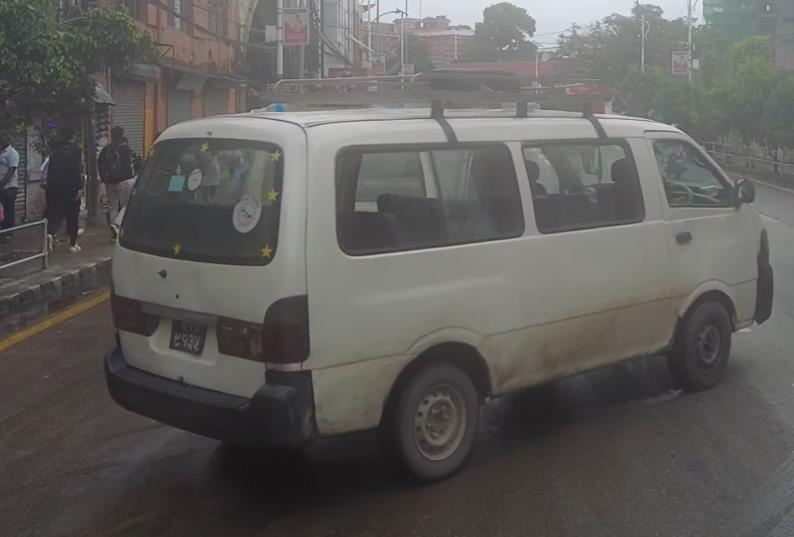van: (82, 64, 784, 486)
